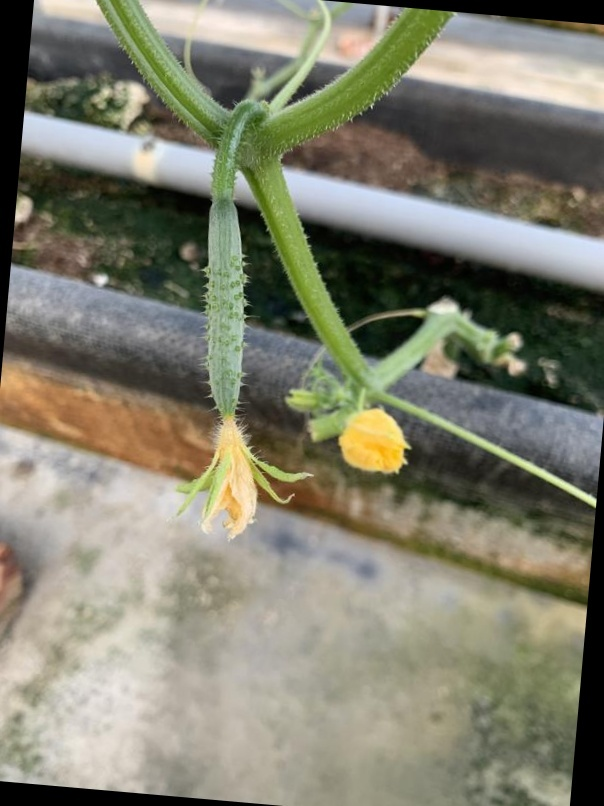bear: (187, 180, 284, 528)
bud: (333, 402, 409, 481)
